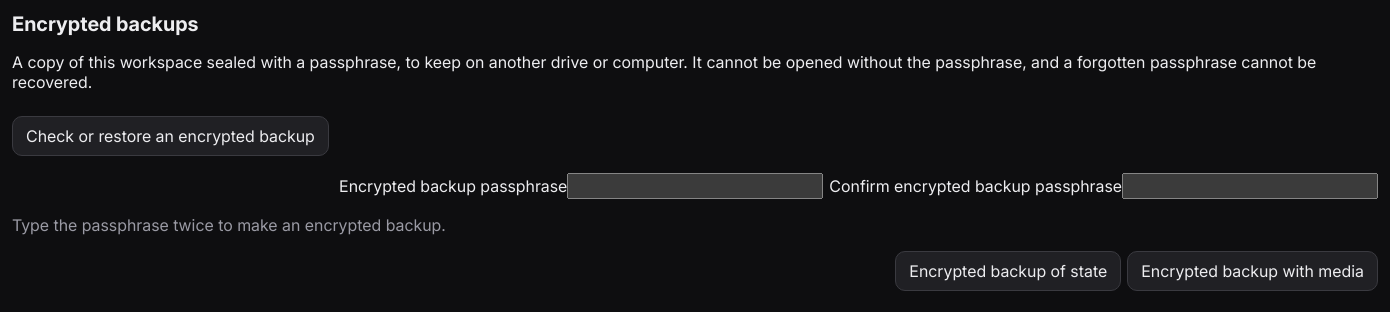
it: says why a backup was not made in its own words: backup-too-large
Type "correct horse battery staple" into the password field labelled "Encrypted backup passphrase" at (695, 186), box x1=567 y1=173 x2=823 y2=199
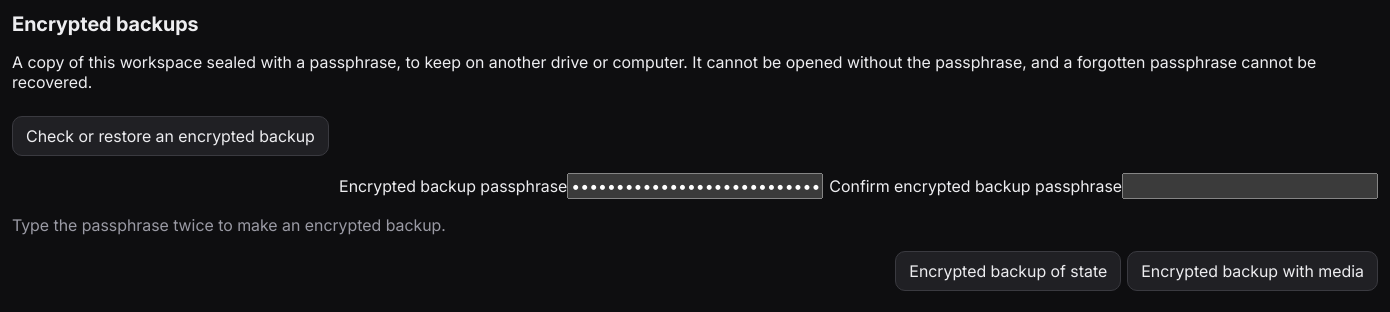
Type "correct horse battery staple" into the password field labelled "Confirm encrypted backup passphrase" at (1250, 186), box x1=1122 y1=173 x2=1378 y2=199
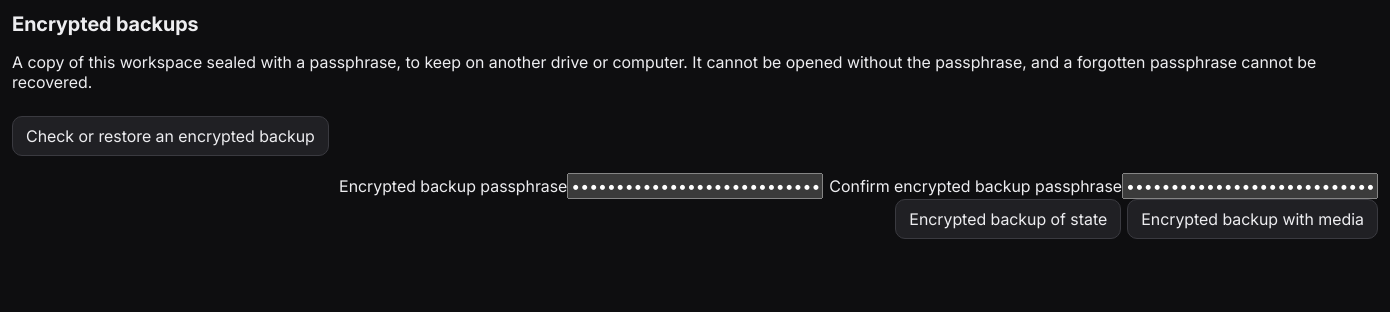
Click the button "Encrypted backup of state" at (1008, 219), box x1=895 y1=199 x2=1121 y2=239
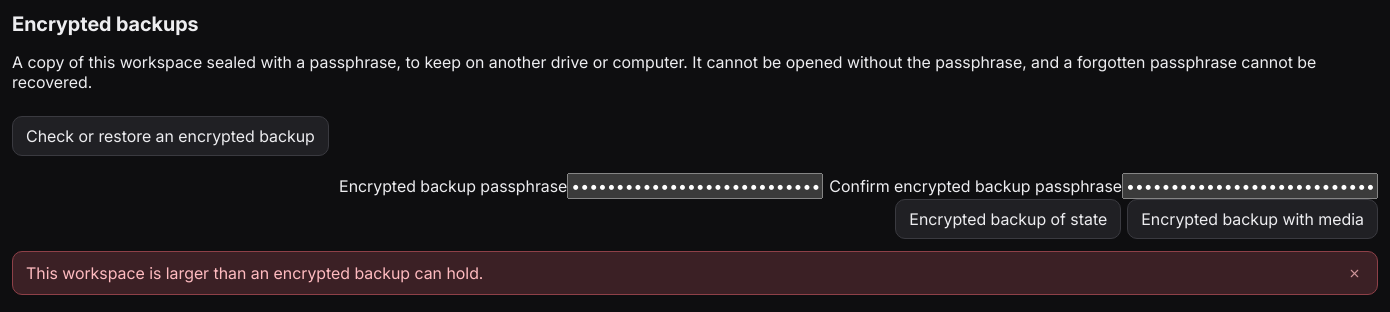
Check: the message reads "This workspace is larger than an encrypted backup can hold.", box x1=26 y1=263 x2=483 y2=283
